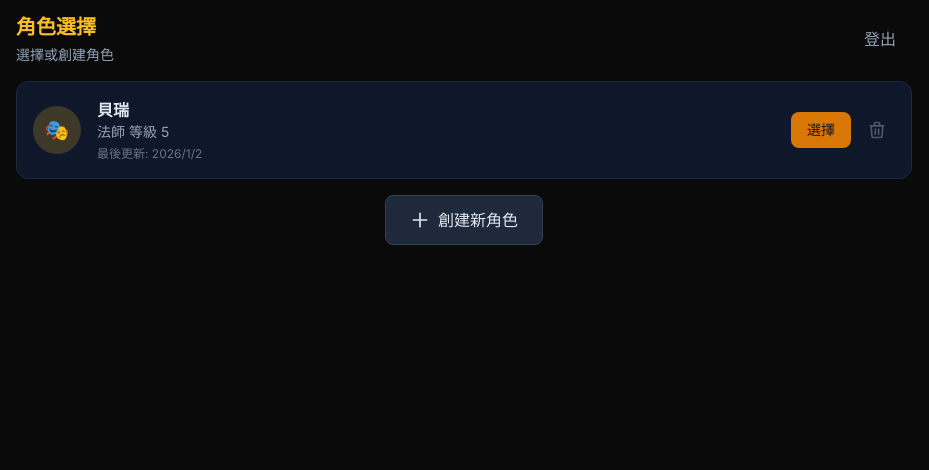
it: CharacterSelectPage - 刪除角色（不可復原，須有防誤刪） › 點刪除只會跳確認框，在確認前絕不可真的刪除
Expected: the heading "貝瑞" is shown, [97,100,129,120]
What coordinates should you click on to do the following:
click the button named "刪除角色 貝瑞"
I would click on:
 (877, 130)
Its box is [859,112,895,148].
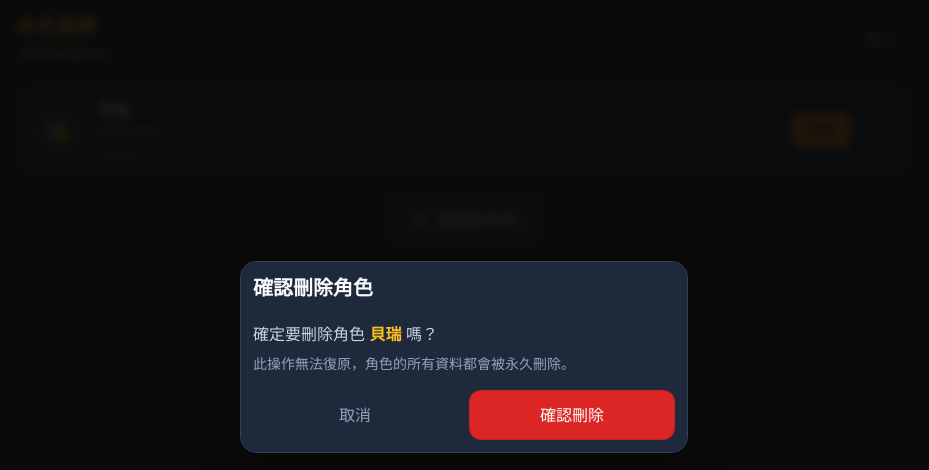
Expected: the heading "確認刪除角色" is shown, [253,276,373,300]
Expected: the text "貝瑞" is shown, [370,324,402,344]
